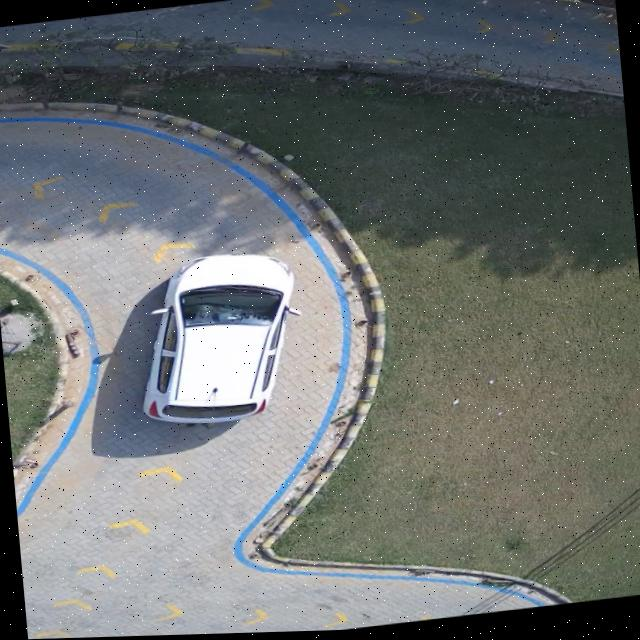car: (143, 255, 298, 425)
